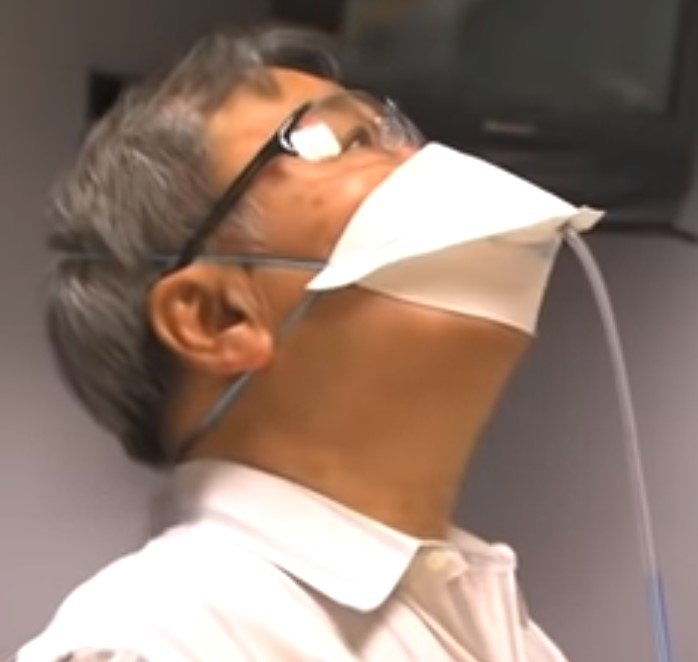face_with_mask: (60, 42, 614, 488)
